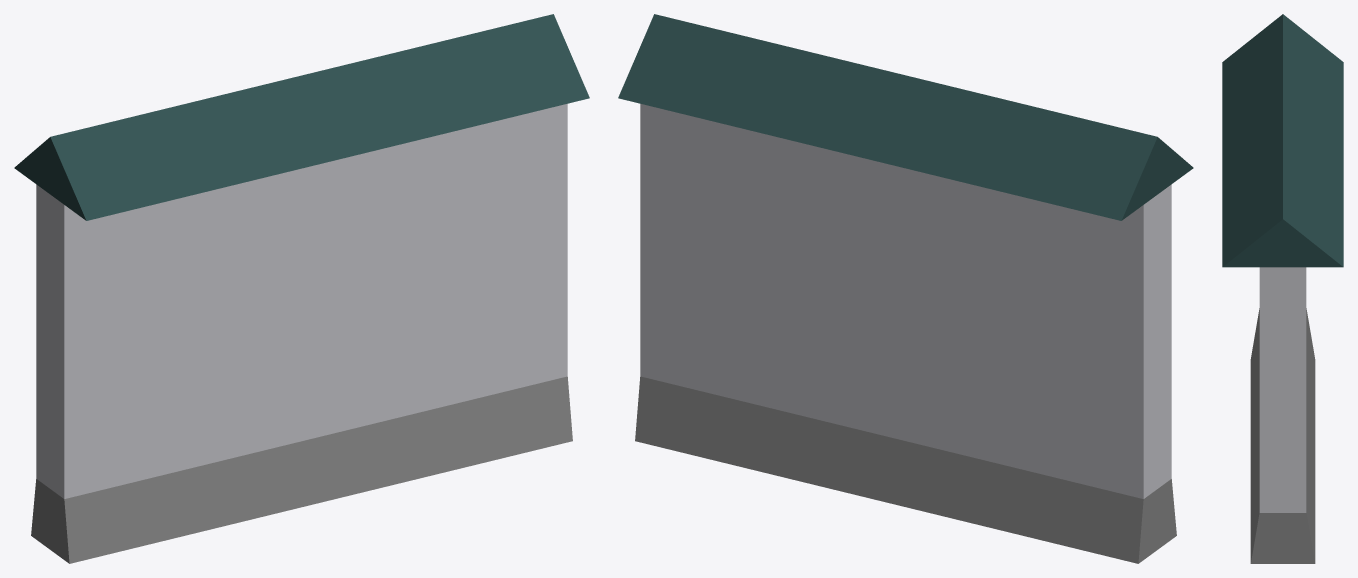
The model's file is Asian_Prop_Building_Fence_Wall_Simple_01.FBX.
3 renders of one model, left to right at view 1: azimuth 30°, elevation 25°; view 2: azimuth 150°, elevation 25°; view 3: azimuth 270°, elevation 25°, orthographic. The views are drawn at different scales.
Visible parts, largest first — view 1: Asian_Prop_Building_Fence_Wall_Simple_01; view 2: Asian_Prop_Building_Fence_Wall_Simple_01; view 3: Asian_Prop_Building_Fence_Wall_Simple_01.
Boxes of the visible parts, x1,y1,x2,y2 form: Asian_Prop_Building_Fence_Wall_Simple_01: (14,14,589,563); Asian_Prop_Building_Fence_Wall_Simple_01: (618,14,1193,563); Asian_Prop_Building_Fence_Wall_Simple_01: (1222,14,1343,563).
Bounding box in the file's own units: 5167 × 4051 × 1290.
